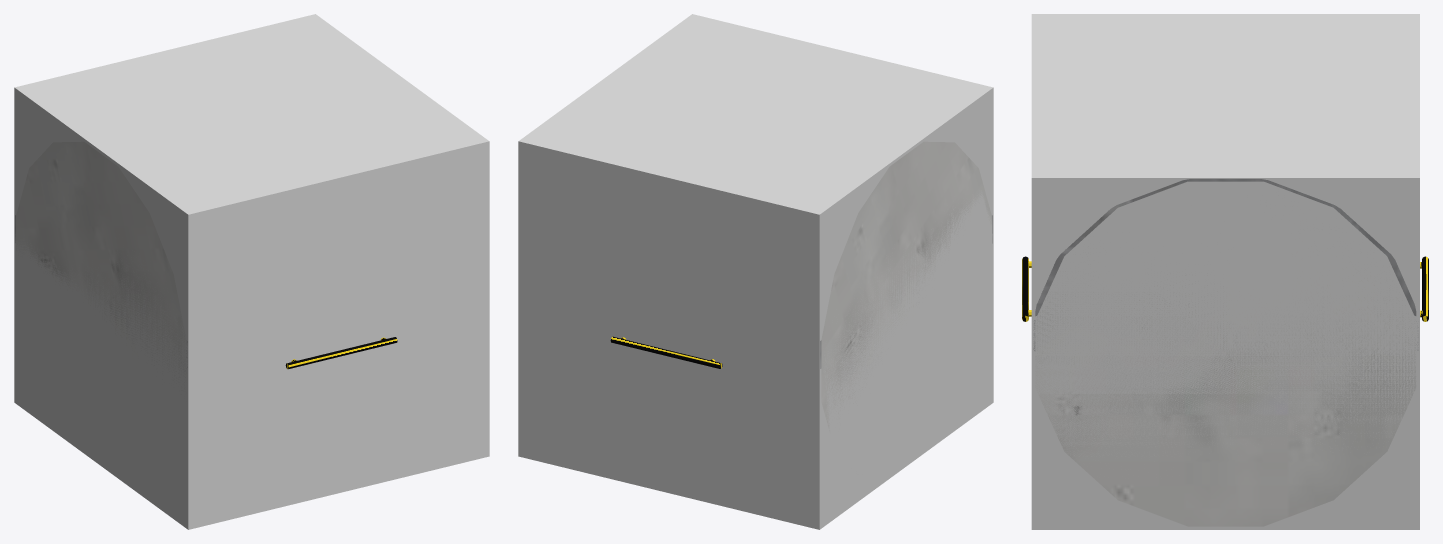
The model's file is Model-3-Centre.glb.
3 views of the same model, side by side, from view 1: azimuth 30°, elevation 25°; view 2: azimuth 150°, elevation 25°; view 3: azimuth 270°, elevation 25° (orthographic). The views are drawn at different scales.
Parts seen in each view (by area): view 1: Cube, Hull, Bar; view 2: Cube, Hull, Bar.001; view 3: Cube, Hull, Cylinder.001, Bar, Bar.001.
Part boxes in pixels (x1,y1,x2,y2): Cube: (14,14,489,529); Hull: (16,141,186,401); Bar: (285,337,397,369); Cube: (518,14,993,529); Hull: (821,141,991,431); Bar.001: (610,336,722,368); Cube: (1031,14,1419,529); Hull: (1035,195,1416,526); Cylinder.001: (1035,179,1416,316); Bar: (1022,256,1031,321); Bar.001: (1420,256,1428,321).
Bounding box in the file's own units: 12 × 12 × 12.58.
7 materials, 5 textured.
